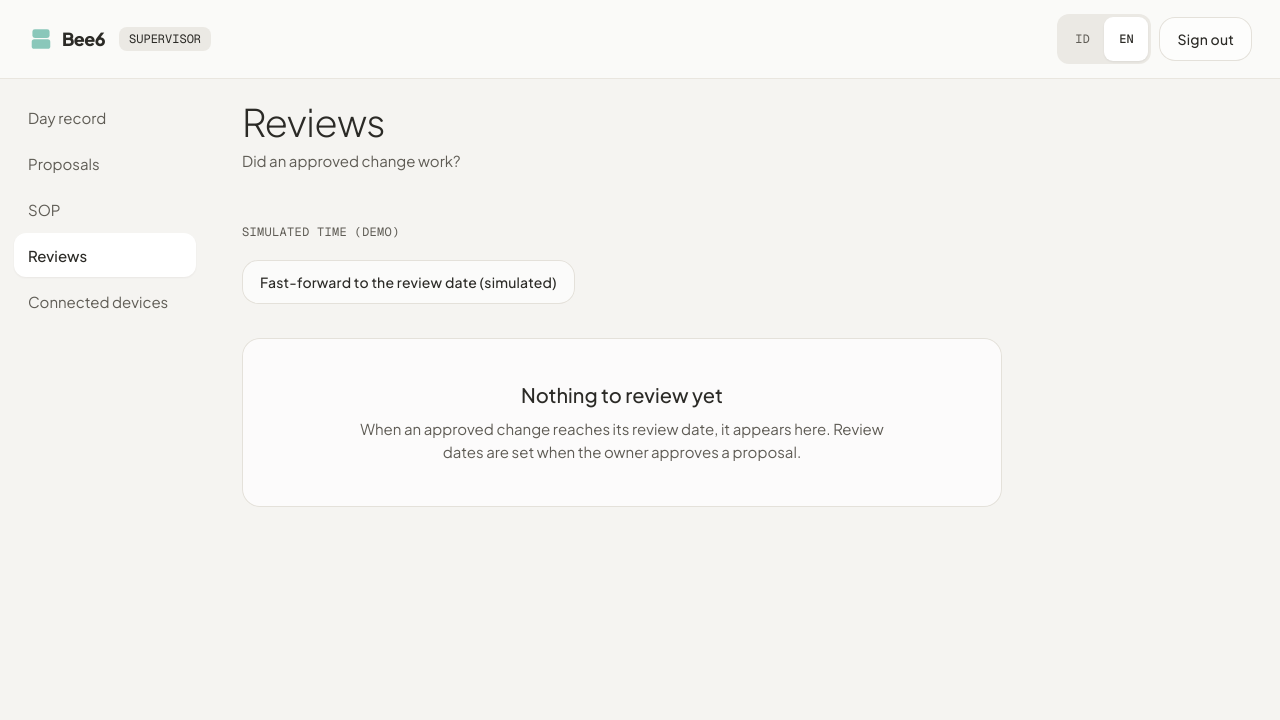
ReviewsApp: fast-forward (demo only) › one tap posts once with an empty body, shows the banner, reloads, and puts focus on the banner
This screenshot has width=1280, height=720.
Click the button "Fast-forward to the review date (simulated)".
click(408, 282)  # box [242,260,575,304]
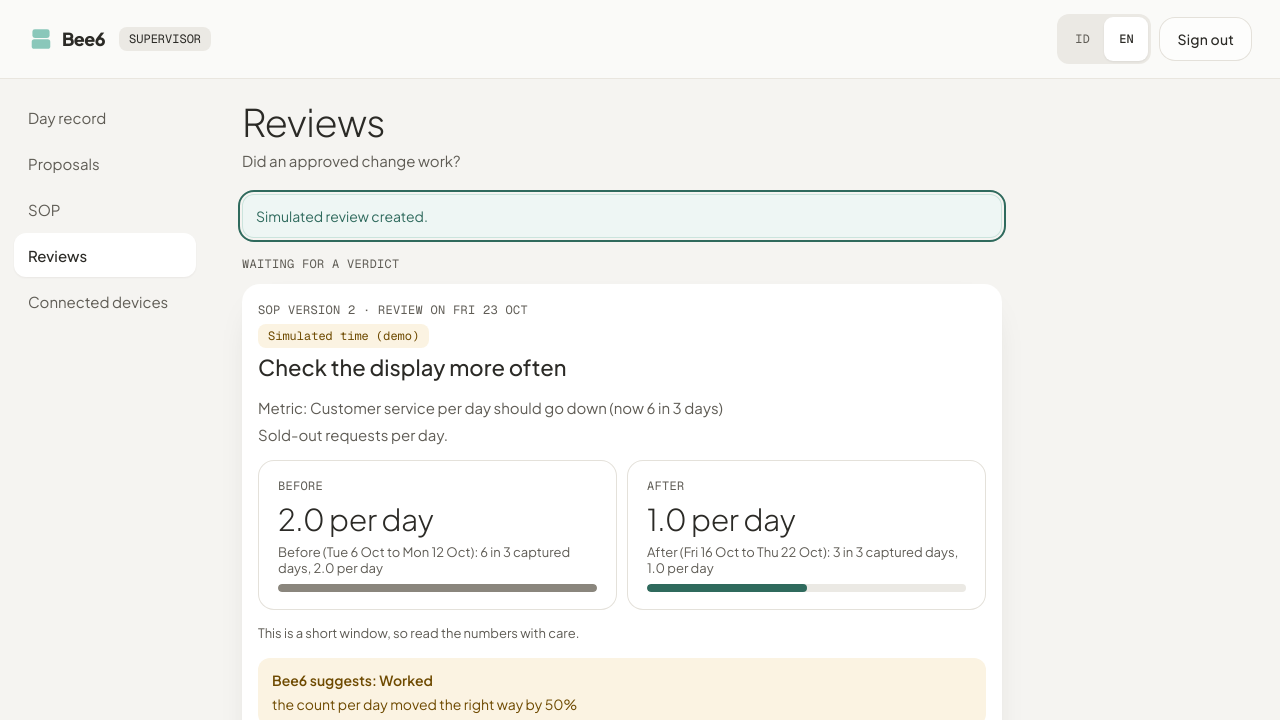
Expected: the text "Simulated time (demo)" is shown, [258,324,429,348]
Now the heading "Check the display more often" is shown, box [258,354,566,382]
Now the button "Fast-forward" is gone
